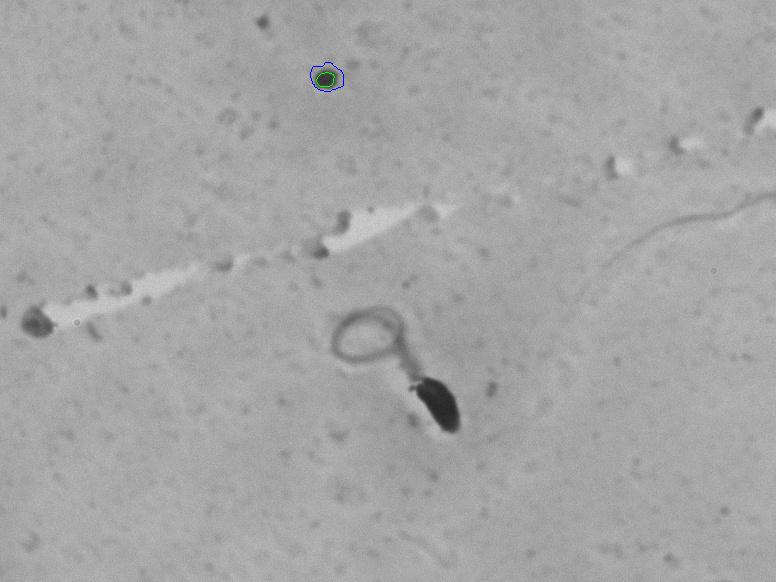Abnormal: (287, 280, 494, 476)
